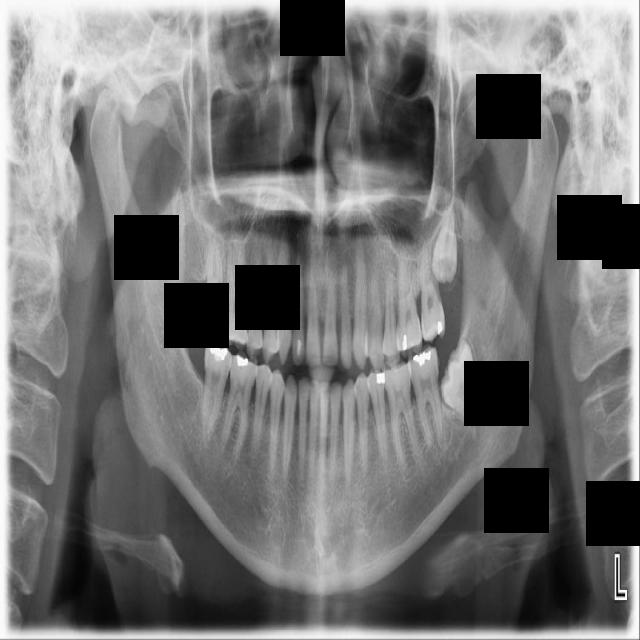52: (403, 342, 446, 392), (196, 336, 237, 385), (392, 314, 425, 360), (199, 293, 224, 338), (421, 301, 446, 343), (367, 368, 385, 401), (292, 330, 306, 367)
73: (575, 558, 581, 568)
BioHorizons Implant: (419, 236, 446, 343)
BioLife Implant: (430, 203, 460, 284)
Biomet 3i Implant: (428, 337, 490, 426)
Blue Sky Bio Implant: (406, 342, 445, 449)
Caries: (200, 236, 223, 337)
Implant: (198, 337, 233, 441)
